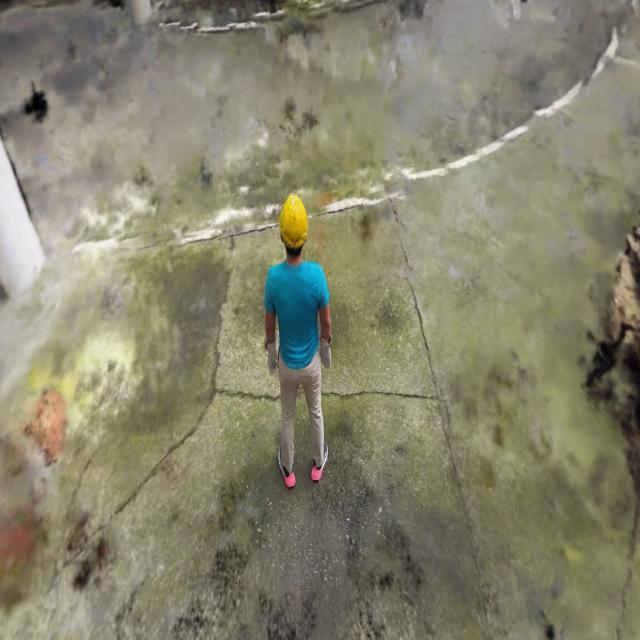gloves: (316, 330, 336, 376), (264, 333, 280, 387)
helmet: (277, 194, 309, 248)
